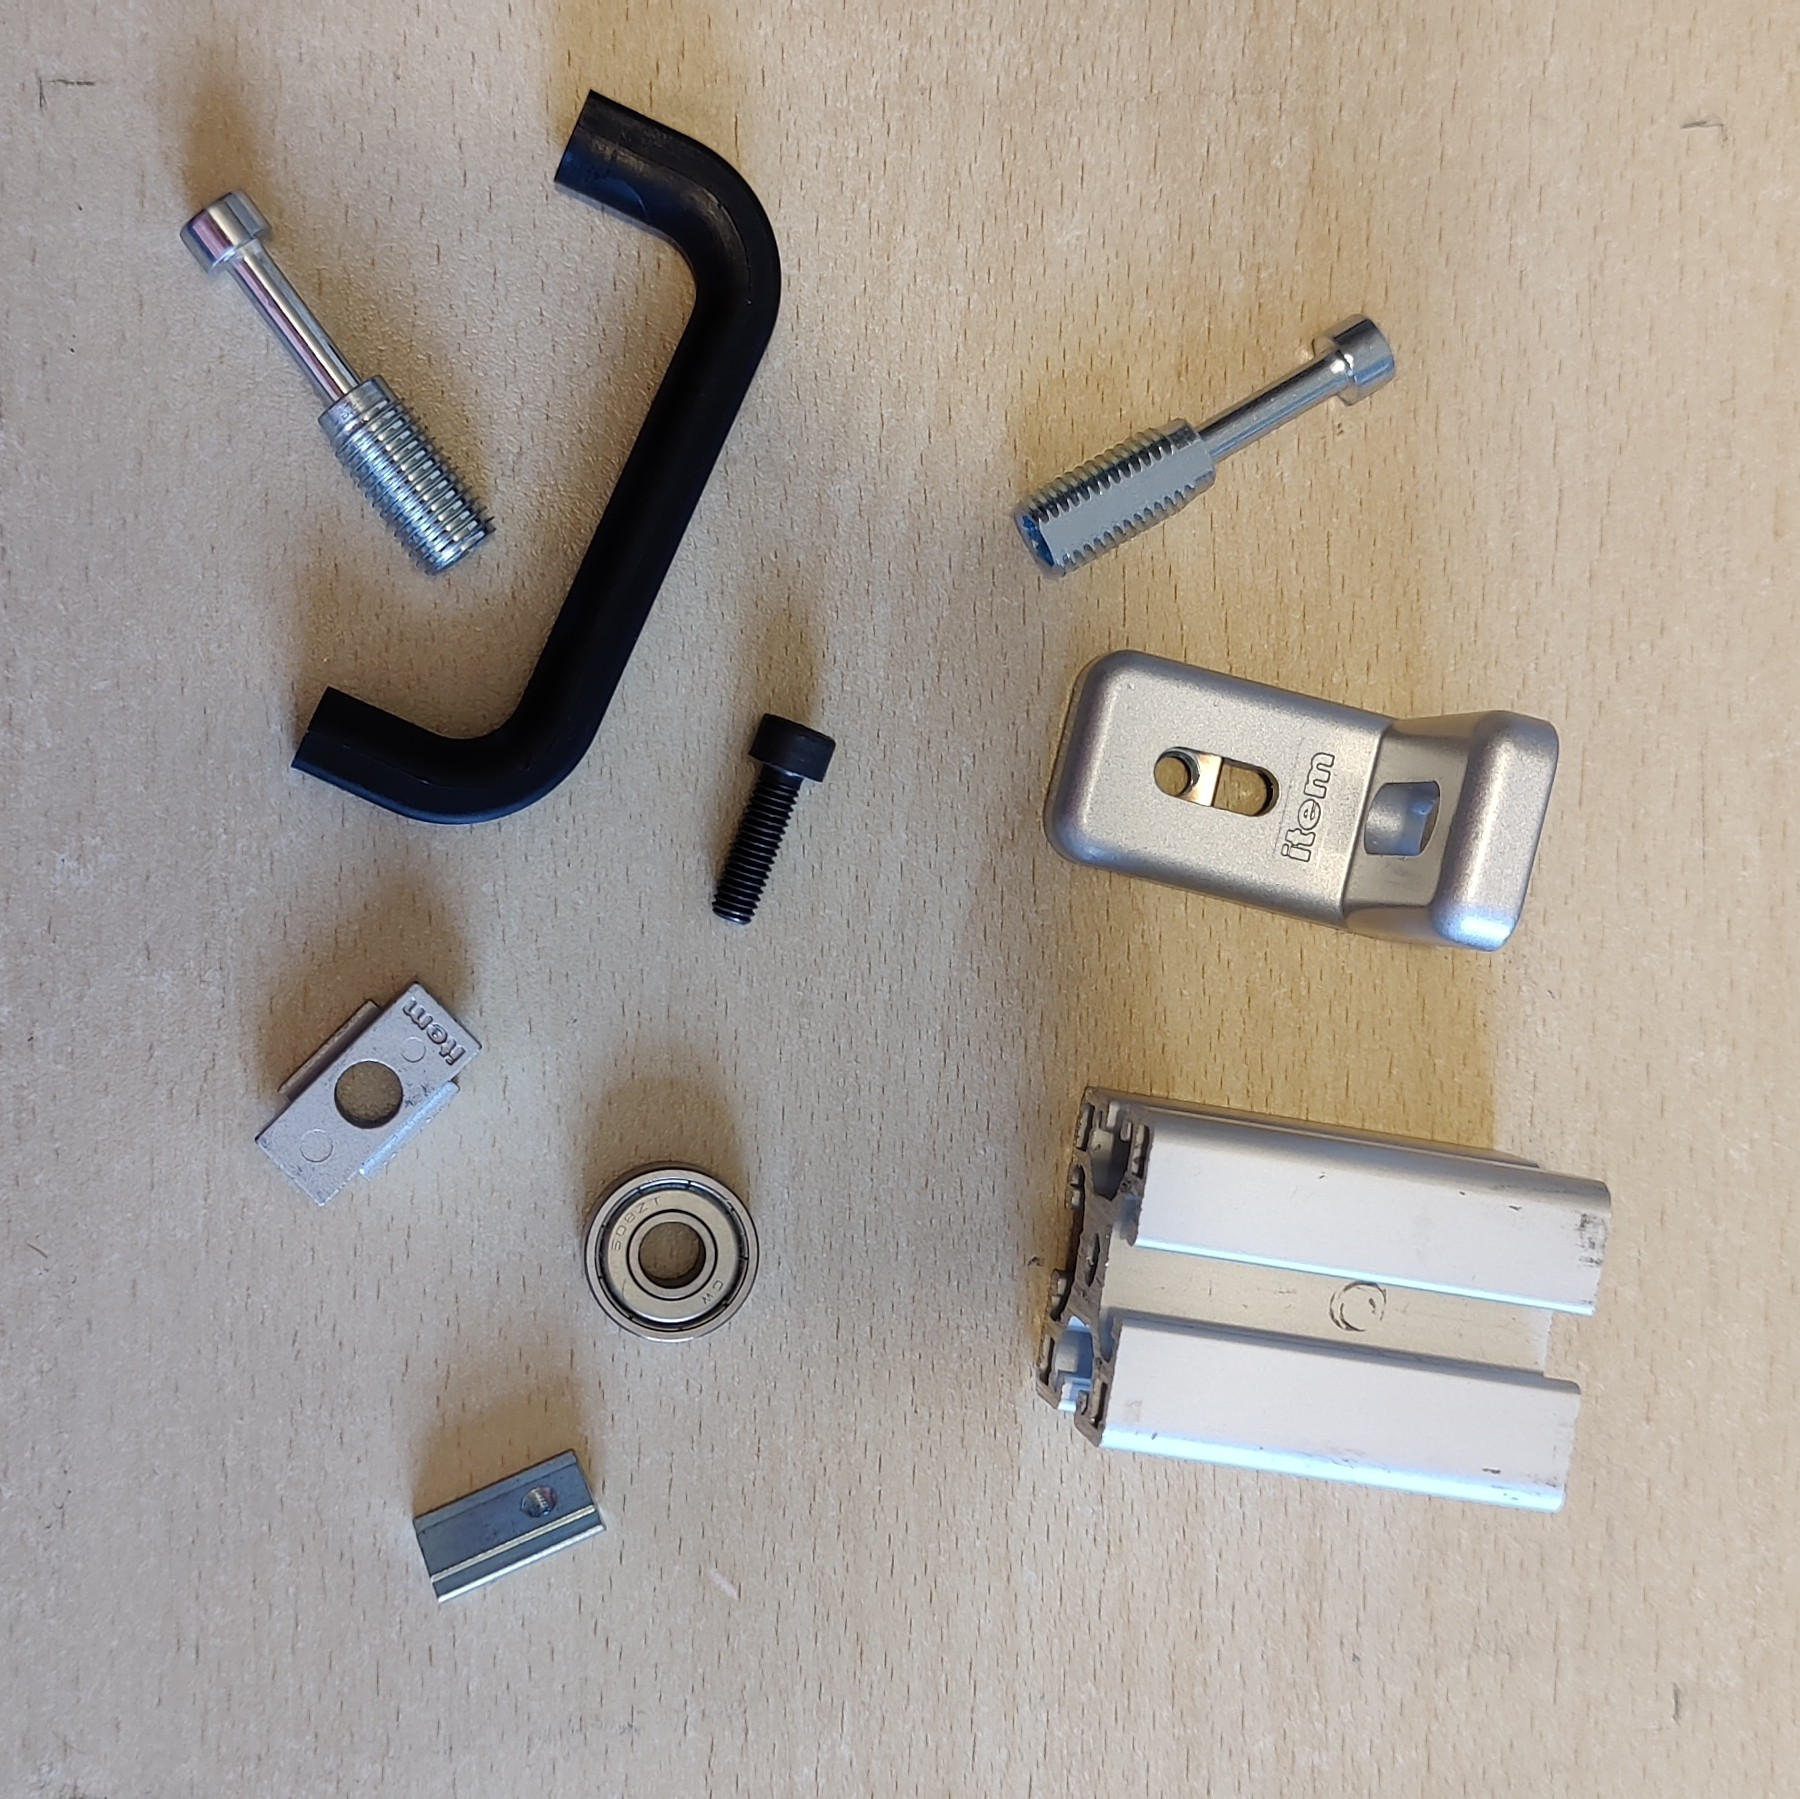Aluminium Extension: (1031, 1079, 1616, 1516)
Ball Bearing: (585, 1161, 759, 1344)
Multiwinkel: (1042, 647, 1560, 952)
Pull Handle: (288, 86, 782, 827)
Shoulder Socket Head Cap Screw: (176, 185, 497, 577), (1010, 311, 1397, 583)
Socket Head Cap Screw: (710, 710, 838, 928)
T Nut Square: (250, 975, 486, 1211)
T Spring Nut: (408, 1445, 608, 1608)
